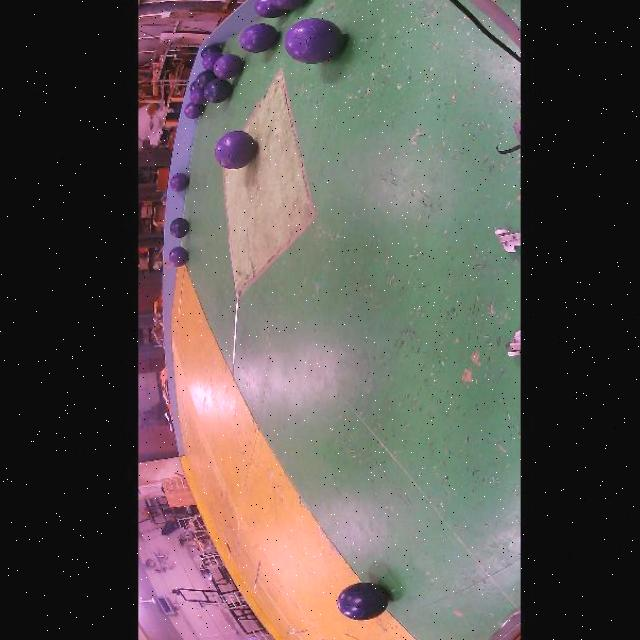B: (337, 582, 389, 621), (204, 78, 232, 104), (169, 218, 189, 238), (195, 70, 216, 89), (200, 44, 220, 58)
P: (284, 19, 345, 64), (214, 130, 257, 169), (238, 24, 280, 53), (213, 54, 244, 80), (253, 0, 288, 19), (168, 247, 188, 267), (189, 84, 207, 105), (184, 102, 204, 120), (201, 52, 221, 70), (268, 0, 308, 9), (169, 173, 188, 191)
